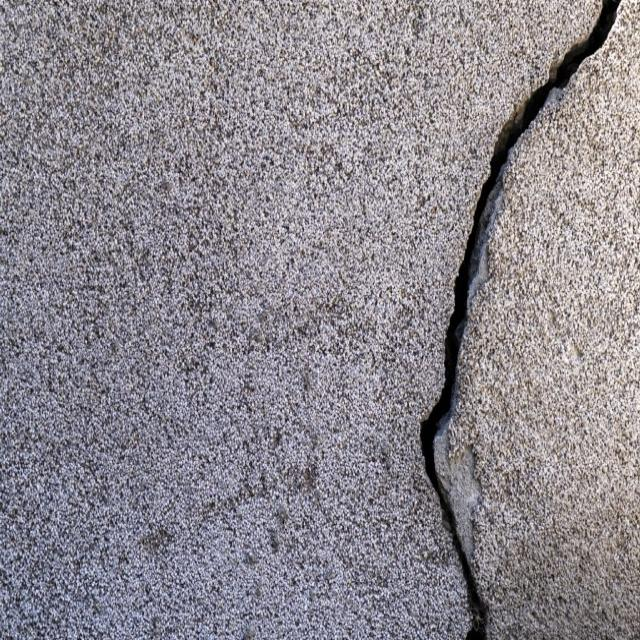Wall_Cracks: (362, 0, 640, 640)
